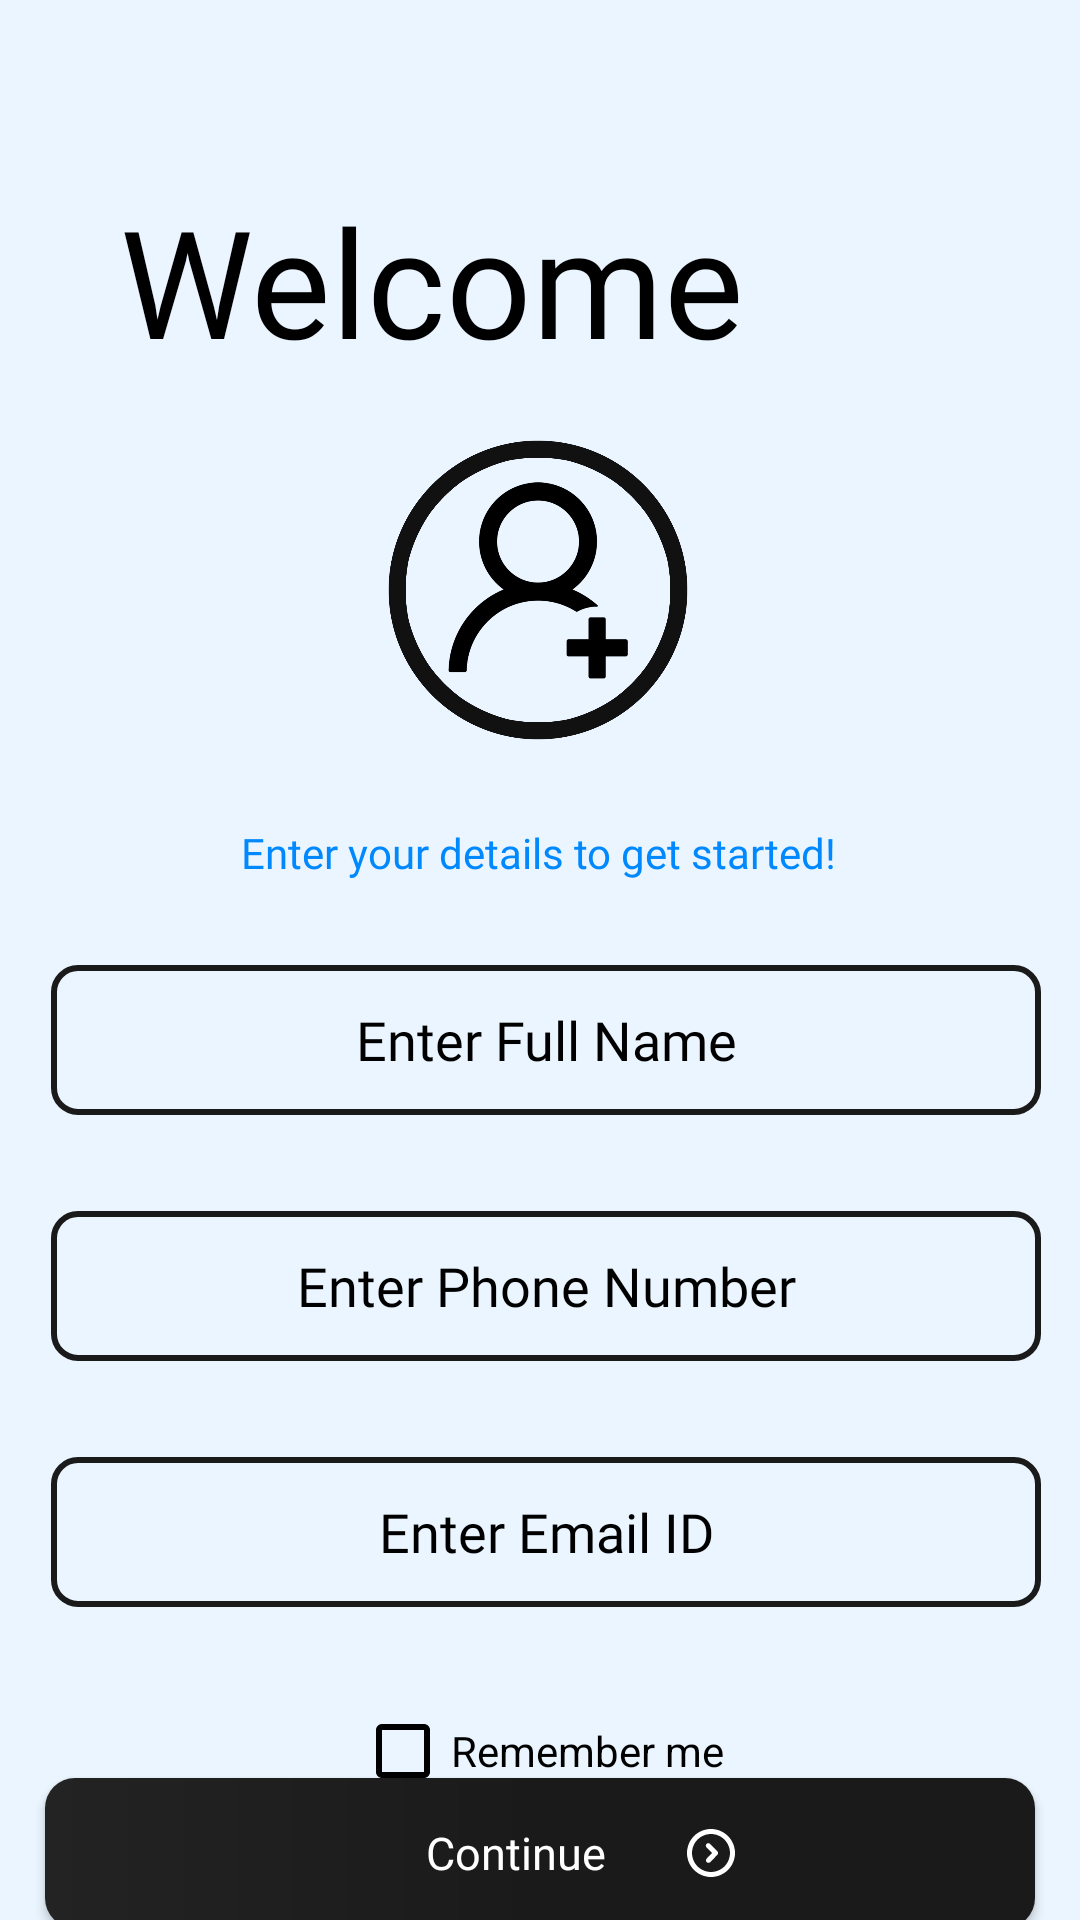

Icons on this 1080 × 1920 Android screen, each with its box as bbox=[x1, y1, x2, y2]:
user: bbox=[388, 440, 688, 740]
